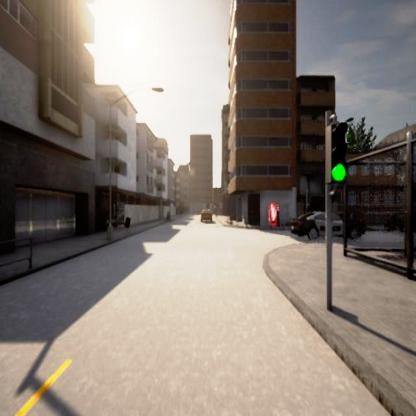vehicle: (291, 210, 345, 239), (200, 207, 212, 223)
